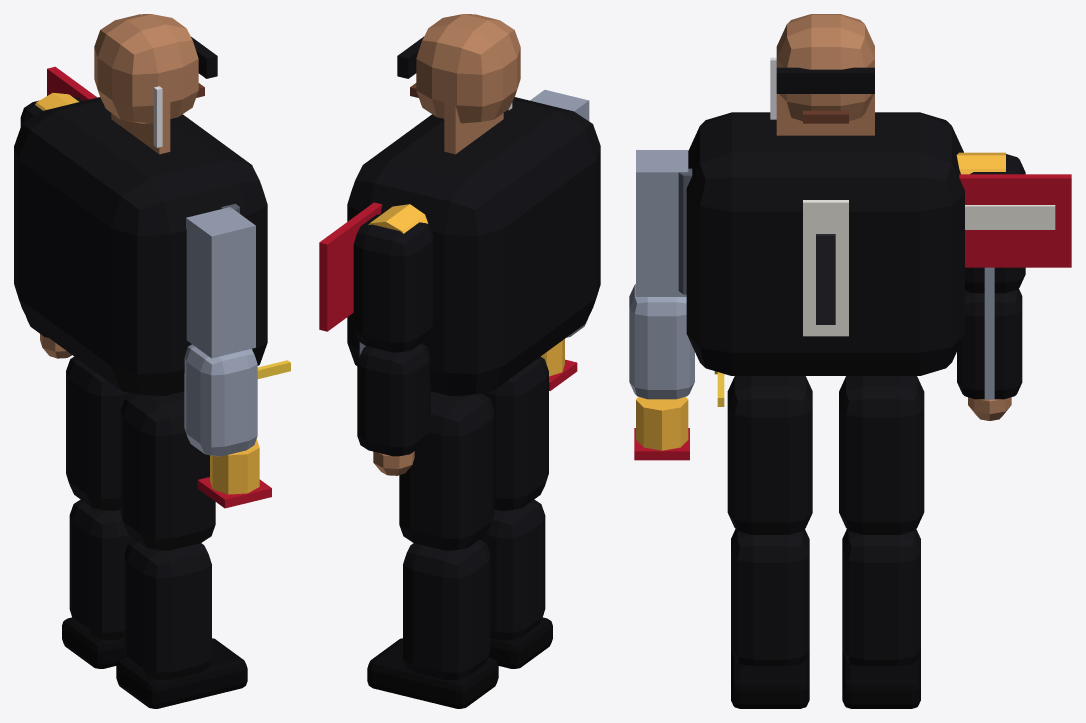
Rendered from physio_kalt.glb.
The picture shows the model from 3 angles, left to right: view 1: azimuth 30°, elevation 25°; view 2: azimuth 150°, elevation 25°; view 3: azimuth 270°, elevation 25°; orthographic projection. The views are drawn at different scales.
Visible parts, largest first — view 1: p_rbox.2229, p_rbox.2223, p_rbox.2224, p_box.8552, p_rbox.2230, p_rbox.2226, p_rbox.2231, p_rbox.2227, p_rbox.2225, p_cyl.1711, p_rbox.2228, p_box.8551 (+5 smaller); view 2: p_rbox.2229, p_rbox.2226, p_rbox.2227, p_rbox.2232, p_rbox.2230, p_rbox.2233, p_rbox.2223, p_rbox.2224, p_rbox.2228, p_box.8555, p_rbox.2225, p_box.8551 (+5 smaller); view 3: p_rbox.2229, p_rbox.2226, p_rbox.2223, p_rbox.2227, p_rbox.2224, p_box.8555, p_rbox.2230, p_box.8552, p_rbox.2231, p_rbox.2233, p_box.8545, p_rbox.2225 (+12 smaller).
Boxes of the visible parts, left/top/right/bottom form: p_rbox.2229: left=14, top=97, right=267, bottom=396; p_rbox.2223: left=120, top=391, right=215, bottom=550; p_rbox.2224: left=124, top=539, right=211, bottom=679; p_box.8552: left=186, top=207, right=255, bottom=358; p_rbox.2230: left=94, top=14, right=198, bottom=123; p_rbox.2226: left=66, top=356, right=132, bottom=510; p_rbox.2231: left=184, top=344, right=257, bottom=456; p_rbox.2227: left=69, top=499, right=134, bottom=640; p_rbox.2225: left=116, top=638, right=247, bottom=708; p_cyl.1711: left=210, top=439, right=259, bottom=494; p_rbox.2228: left=62, top=617, right=126, bottom=668; p_box.8551: left=111, top=83, right=170, bottom=154; p_rbox.2229: left=347, top=97, right=600, bottom=396; p_rbox.2226: left=399, top=391, right=494, bottom=550; p_rbox.2227: left=403, top=539, right=490, bottom=679; p_rbox.2232: left=353, top=214, right=433, bottom=352; p_rbox.2230: left=416, top=14, right=520, bottom=123; p_rbox.2233: left=357, top=343, right=430, bottom=456; p_rbox.2223: left=482, top=356, right=548, bottom=510; p_rbox.2224: left=480, top=499, right=545, bottom=640; p_rbox.2228: left=367, top=638, right=498, bottom=708; p_box.8555: left=319, top=202, right=382, bottom=331; p_rbox.2225: left=488, top=617, right=552, bottom=668; p_box.8551: left=444, top=83, right=503, bottom=154; p_rbox.2229: left=686, top=112, right=964, bottom=375; p_rbox.2226: left=839, top=376, right=924, bottom=534; p_rbox.2223: left=727, top=376, right=812, bottom=534; p_rbox.2227: left=842, top=529, right=920, bottom=665; p_rbox.2224: left=731, top=529, right=809, bottom=665; p_box.8555: left=959, top=174, right=1071, bottom=267; p_rbox.2230: left=776, top=14, right=874, bottom=121; p_box.8552: left=636, top=150, right=688, bottom=296; p_rbox.2231: left=629, top=284, right=694, bottom=399; p_rbox.2233: left=957, top=288, right=1022, bottom=399; p_box.8545: left=803, top=200, right=848, bottom=336; p_rbox.2225: left=731, top=650, right=809, bottom=708.
Bounding box in the file's own units: 0.625 × 2.23 × 1.35.
